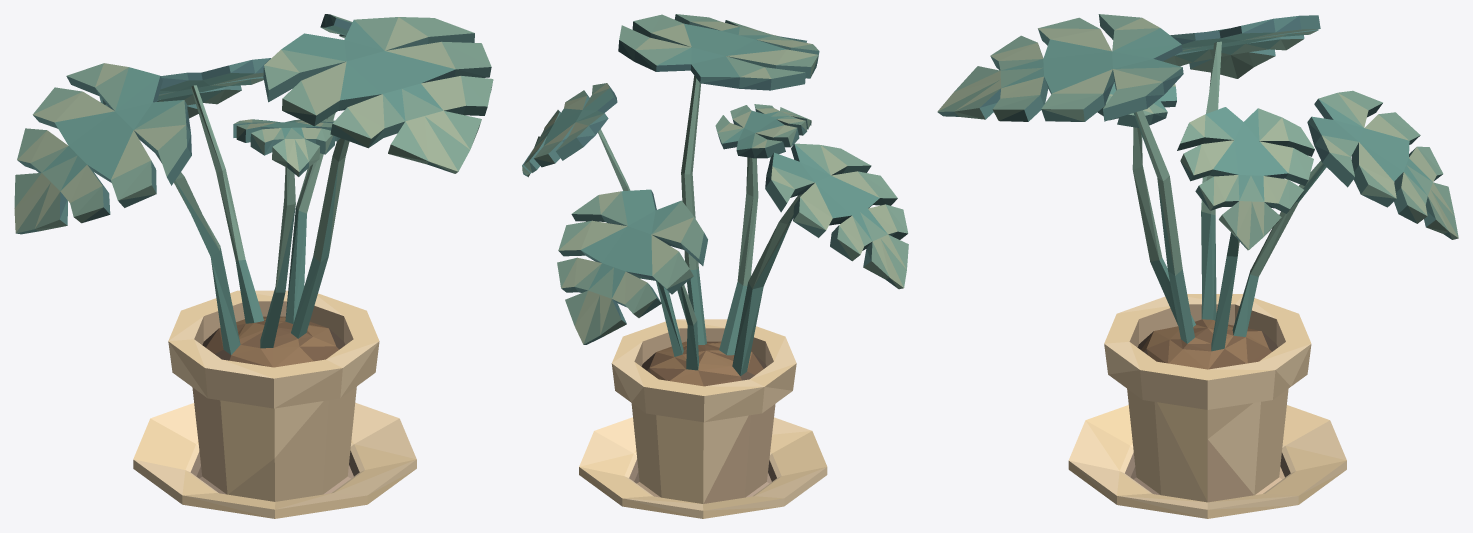
The model's file is plant_upstairs.fbx.
3 views of the same model, side by side, from view 1: azimuth 30°, elevation 25°; view 2: azimuth 150°, elevation 25°; view 3: azimuth 270°, elevation 25° (orthographic). The views are drawn at different scales.
Parts seen in each view (by area): view 1: plant_upstairs; view 2: plant_upstairs; view 3: plant_upstairs.
Boxes of the visible parts, <box> form: plant_upstairs: <box>14,14,493,518</box>; plant_upstairs: <box>522,14,908,518</box>; plant_upstairs: <box>937,14,1458,518</box>.
Bounding box in the file's own units: 101 × 103 × 109.
